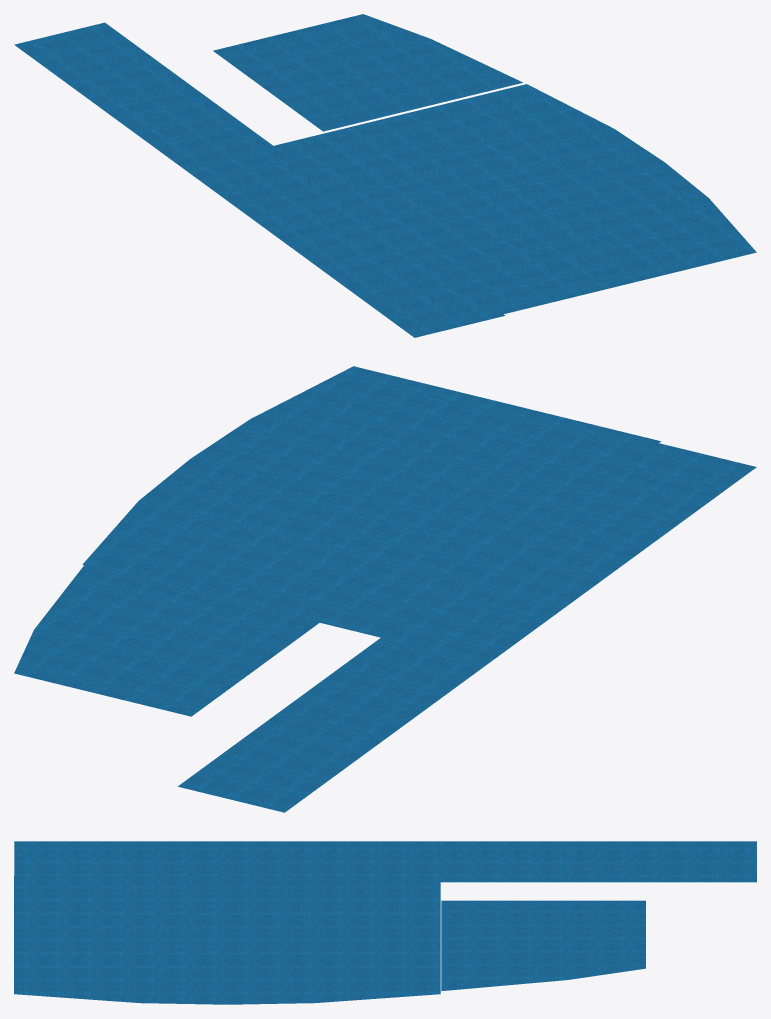
The model's file is officefloor.glb.
3 renders of one model, top to bottom at view 1: azimuth 30°, elevation 25°; view 2: azimuth 150°, elevation 25°; view 3: azimuth 270°, elevation 25°, orthographic. The views are drawn at different scales.
Parts seen in each view (by area): view 1: Plane; view 2: Plane; view 3: Plane.
Boxes of the visible parts, x1,y1,x2,y2 form: Plane: (14, 14, 756, 337); Plane: (14, 366, 756, 812); Plane: (14, 841, 756, 1004).
Size of the model in its own units: 9.48 by 0.0946 by 18.
Materials: 1 (1 with a texture image).
